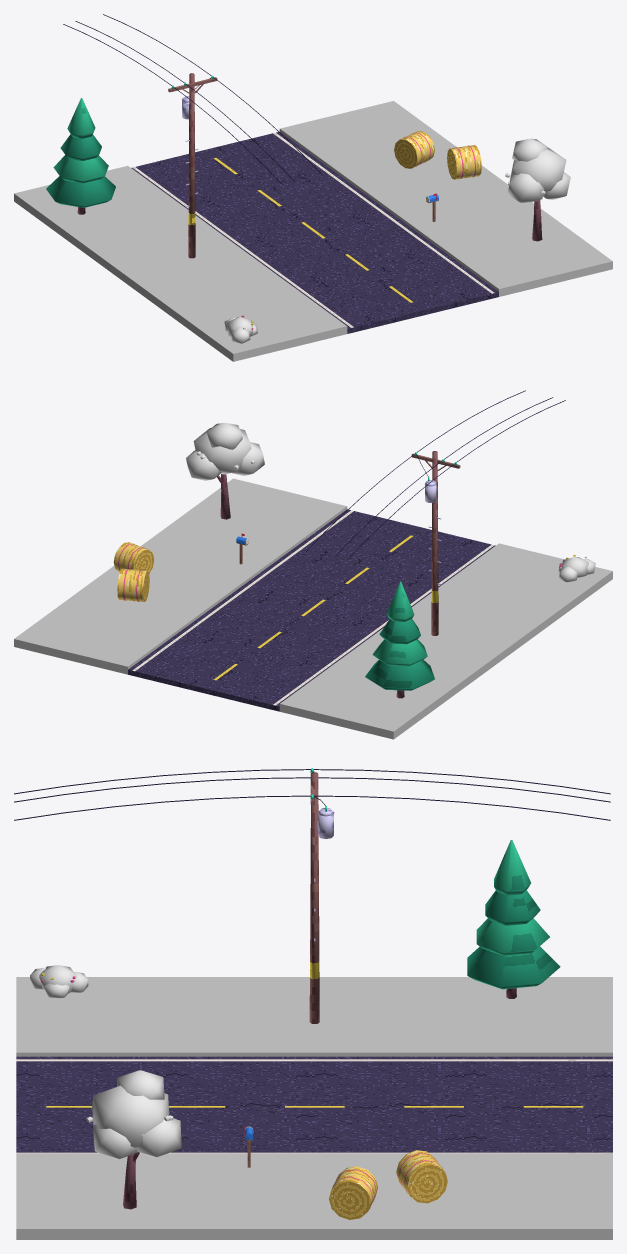
File: Rural Straight.fbx
3 renders of one model, top to bottom at view 1: azimuth 30°, elevation 25°; view 2: azimuth 150°, elevation 25°; view 3: azimuth 270°, elevation 25°, orthographic. The views are drawn at different scales.
Parts seen in each view (by area): view 1: Rural Straight ground, Rural Straight paint, Rural Straight pine tree tier 0, Rural Straight round tree canopy 0, Rural Straight power pole pole, Rural Straight pine tree tier 1, Rural Straight round tree canopy 2, Rural Straight hay bale 1 roll, Rural Straight pine tree tier 2, Rural Straight pine tree tier 3, Rural Straight hay bale 0 roll, Rural Straight round tree canopy 4 (+1 smaller); view 2: Rural Straight ground, Rural Straight paint, Rural Straight pine tree tier 0, Rural Straight round tree canopy 0, Rural Straight power pole pole, Rural Straight pine tree tier 1, Rural Straight hay bale 0 roll, Rural Straight pine tree tier 2, Rural Straight round tree canopy 4, Rural Straight round tree canopy 1, Rural Straight pine tree tier 3, Rural Straight hay bale 1 roll (+1 smaller); view 3: Rural Straight ground, Rural Straight paint, Rural Straight round tree canopy 0, Rural Straight pine tree tier 0, Rural Straight power pole pole, Rural Straight pine tree tier 1, Rural Straight pine tree tier 2, Rural Straight pine tree tier 3, Rural Straight hay bale 1 ends, Rural Straight hay bale 0 ends, Rural Straight round tree canopy 1, Rural Straight round tree canopy 4 (+4 smaller).
Boxes of the visible parts, x1,y1,x2,y2 form: Rural Straight ground: (14,101,612,361); Rural Straight paint: (132,132,494,327); Rural Straight pine tree tier 0: (46,176,115,207); Rural Straight round tree canopy 0: (509,147,566,191); Rural Straight power pole pole: (188,73,195,258); Rural Straight pine tree tier 1: (53,155,108,183); Rural Straight round tree canopy 2: (507,173,544,203); Rural Straight hay bale 1 roll: (450,145,481,179); Rural Straight pine tree tier 2: (60,134,101,160); Rural Straight pine tree tier 3: (67,98,95,138); Rural Straight hay bale 0 roll: (400,131,434,167); Rural Straight round tree canopy 4: (512,138,547,161); Rural Straight ground: (14,478,612,739); Rural Straight paint: (132,510,494,705); Rural Straight pine tree tier 0: (365,660,434,690); Rural Straight round tree canopy 0: (193,428,251,474); Rural Straight power pole pole: (431,451,438,635); Rural Straight pine tree tier 1: (372,639,427,666); Rural Straight hay bale 0 roll: (117,568,147,601); Rural Straight pine tree tier 2: (379,619,420,644); Rural Straight round tree canopy 4: (207,423,242,449); Rural Straight round tree canopy 1: (186,450,221,480); Rural Straight pine tree tier 3: (386,581,414,621); Rural Straight hay bale 1 roll: (113,542,148,572); Rural Straight ground: (16,977,612,1239); Rural Straight paint: (16,1059,612,1153); Rural Straight round tree canopy 0: (93,1085,169,1147); Rural Straight pine tree tier 0: (467,946,560,989); Rural Straight power pole pole: (309,772,319,1023); Rural Straight pine tree tier 1: (476,918,549,955); Rural Straight pine tree tier 2: (485,890,540,925); Rural Straight pine tree tier 3: (494,840,530,895); Rural Straight hay bale 1 ends: (329,1181,370,1219); Rural Straight hay bale 0 ends: (407,1164,447,1203); Rural Straight round tree canopy 1: (137,1115,181,1157); Rural Straight round tree canopy 4: (117,1070,164,1099).
Bounding box in the file's own units: 20.01 × 9.6 × 20.08.
